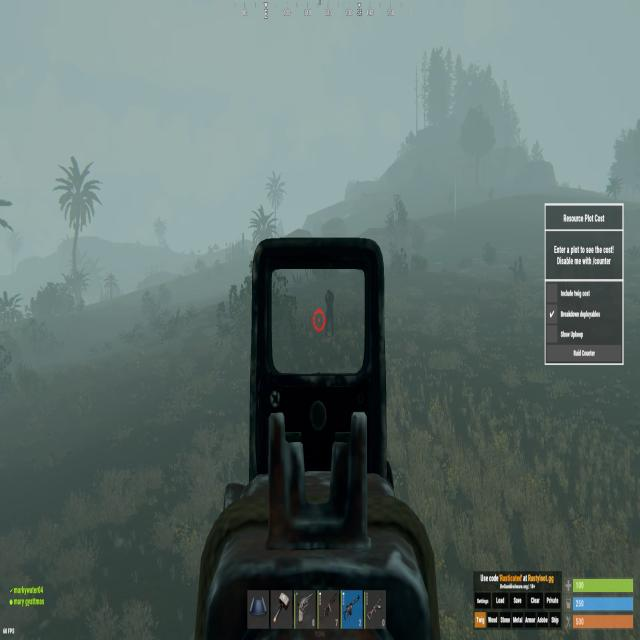Player: (324, 288, 336, 340)
